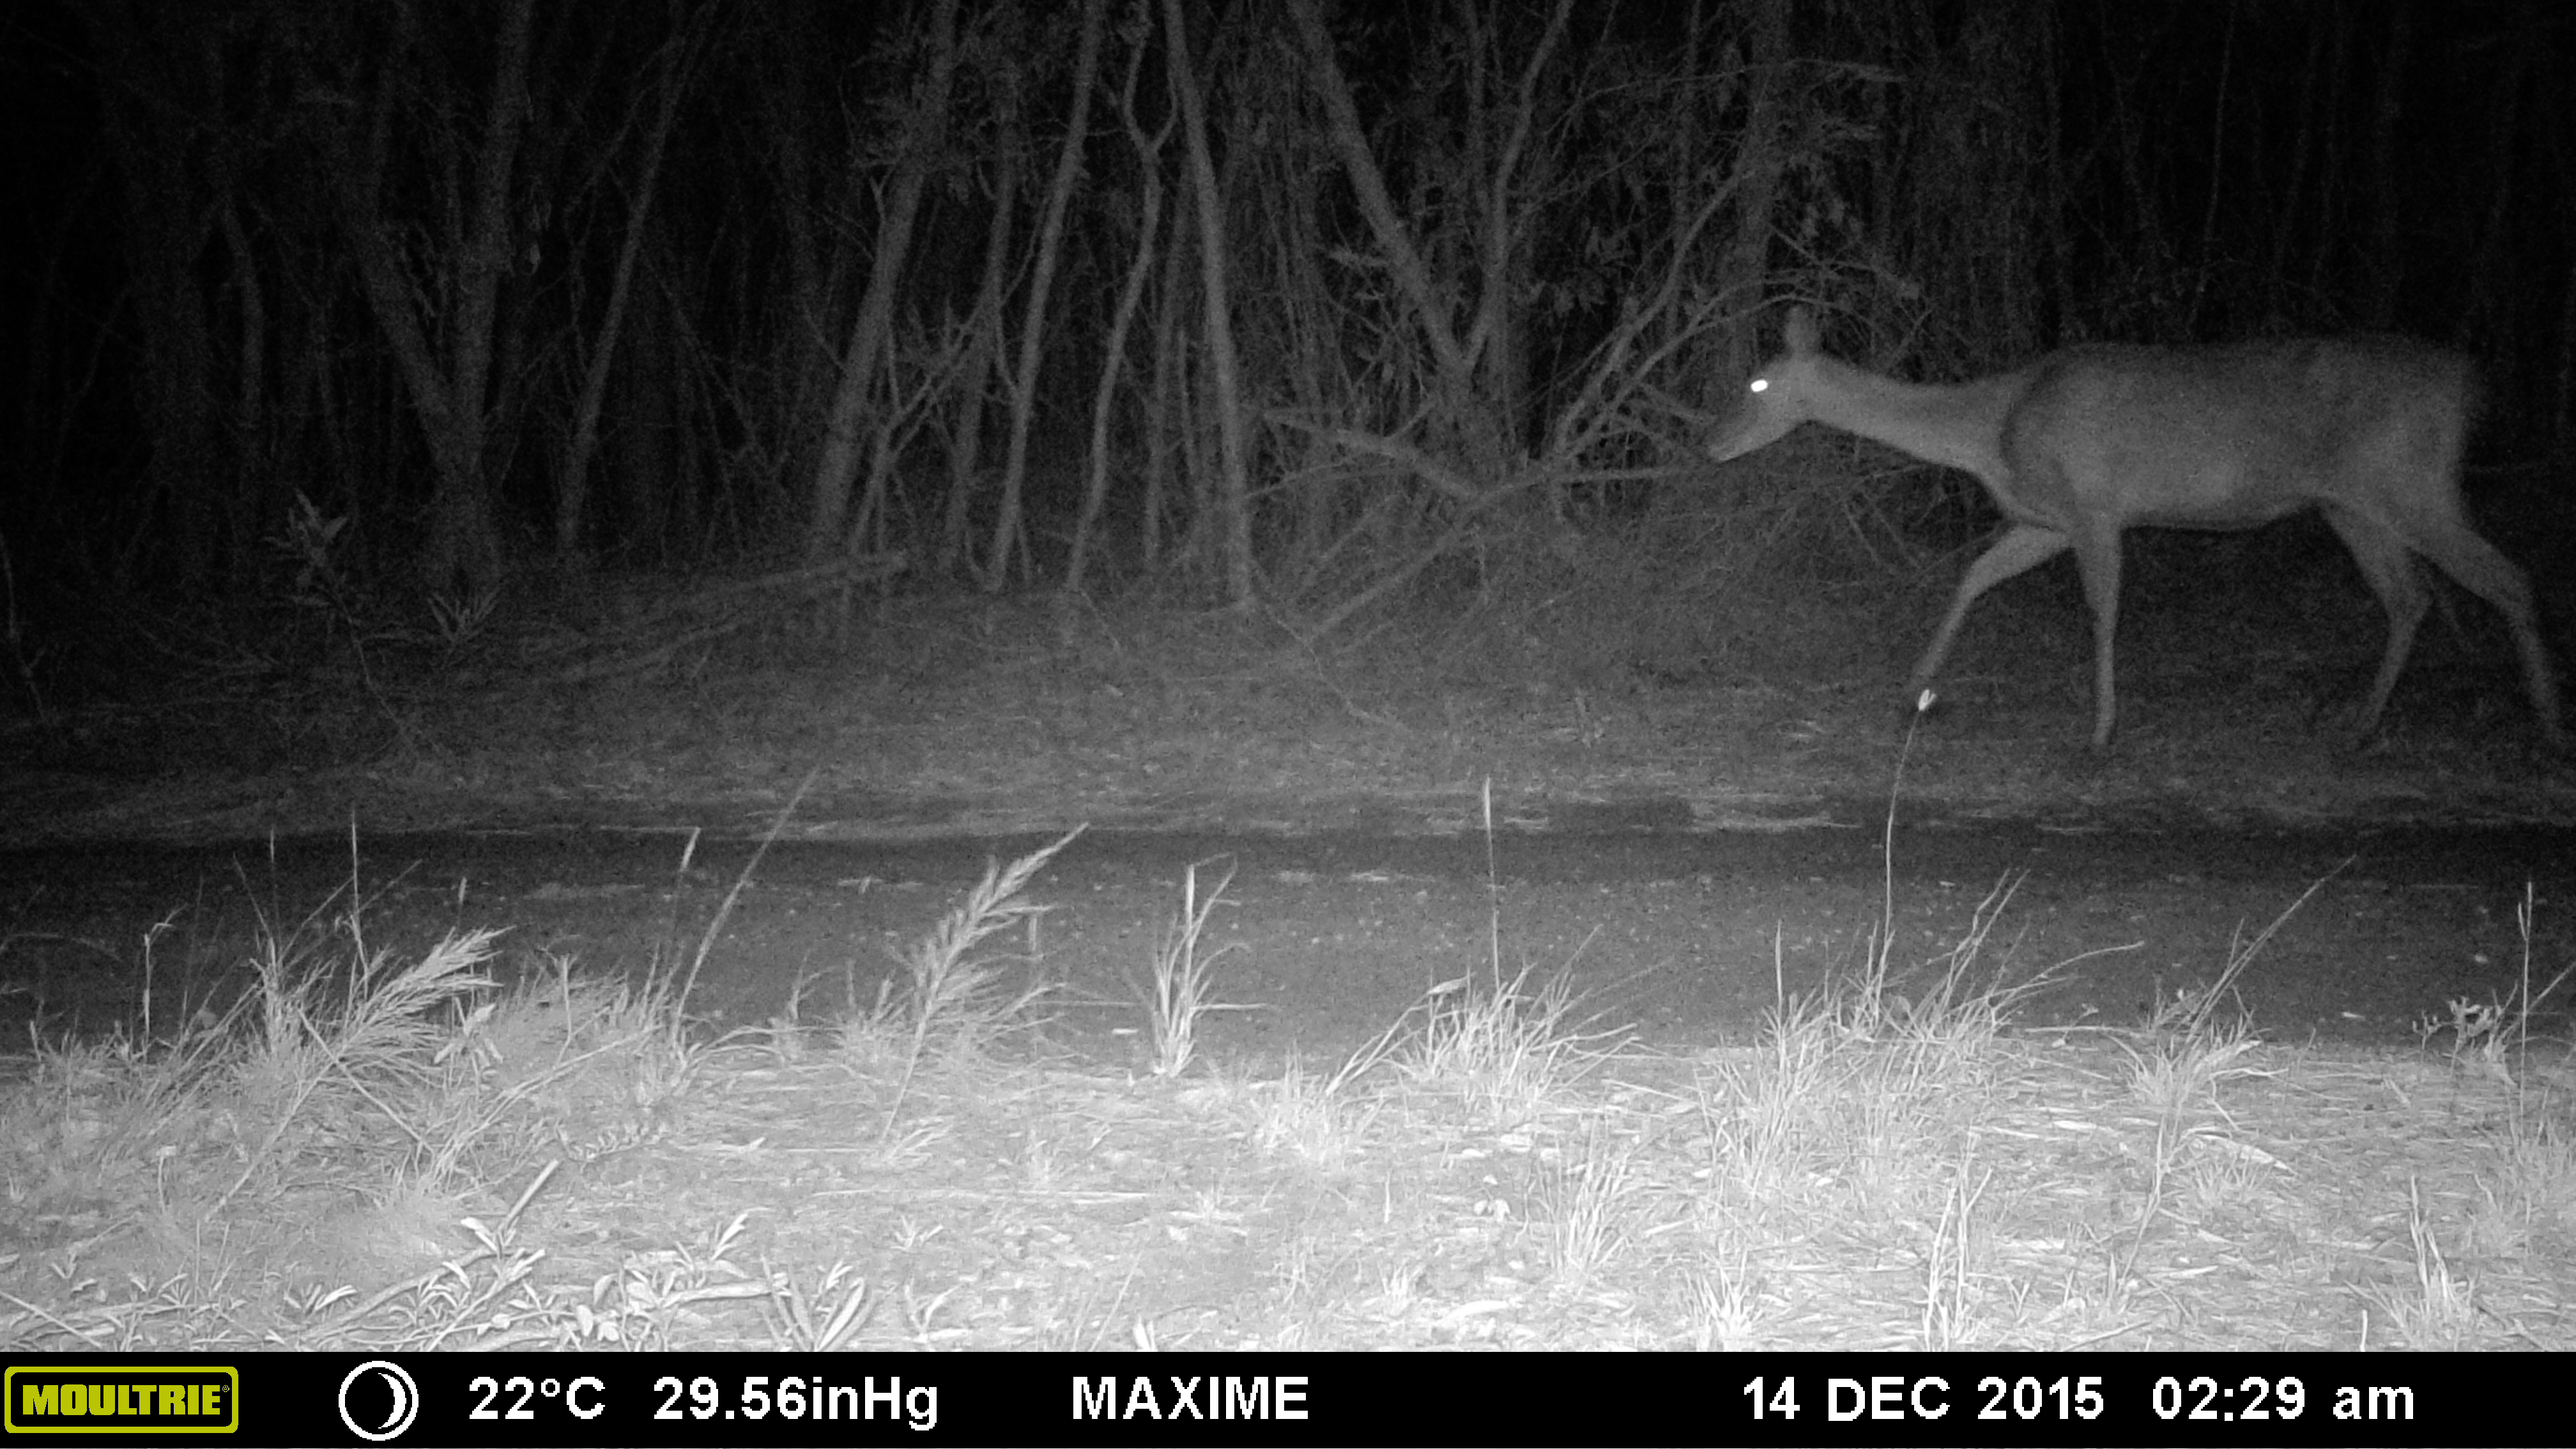Deer: (1688, 292, 2571, 780)
